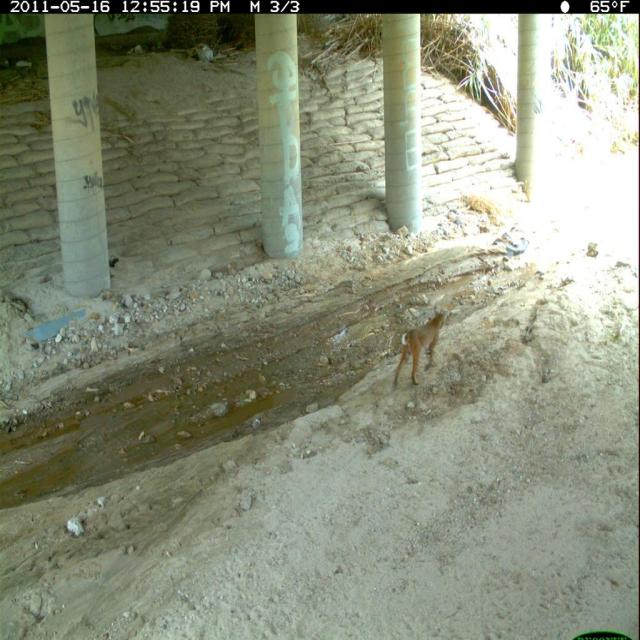bobcat: (392, 305, 450, 394)
